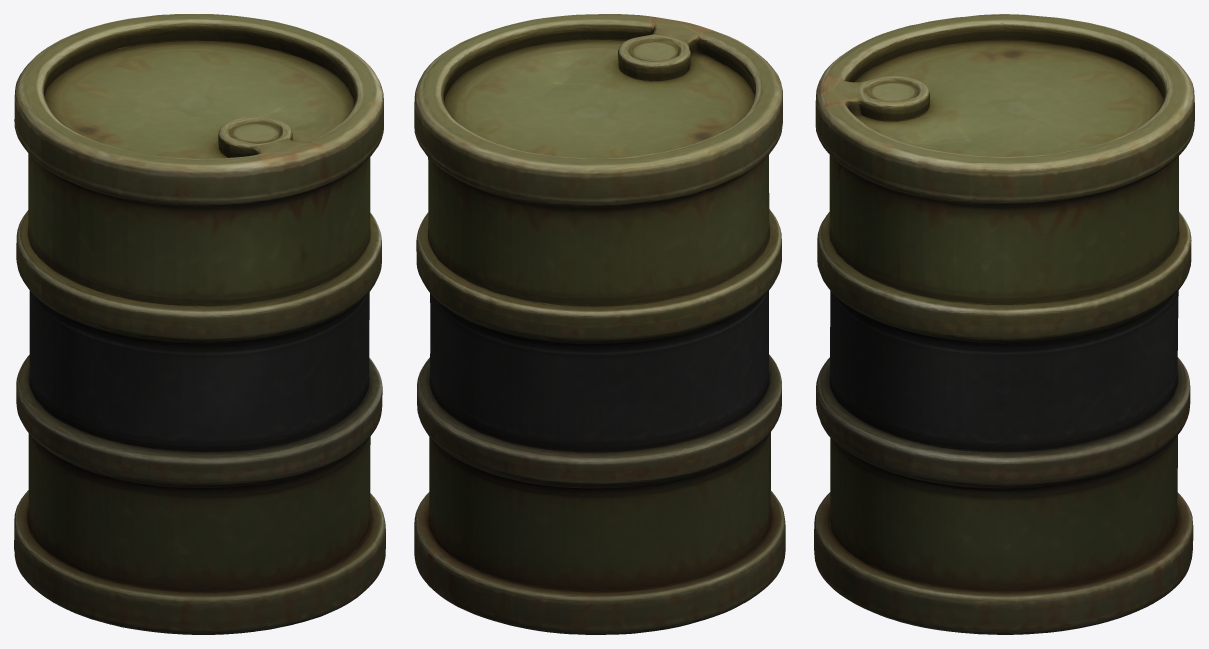
Rendered from OilDrum.glb.
3 views of the same model, side by side, from view 1: azimuth 30°, elevation 25°; view 2: azimuth 150°, elevation 25°; view 3: azimuth 270°, elevation 25° (orthographic).
Parts seen in each view (by area): view 1: world; view 2: world; view 3: world.
Part boxes in pixels (bbox=[...]): world: bbox=[14, 14, 385, 634]; world: bbox=[414, 14, 785, 634]; world: bbox=[814, 14, 1194, 634].
Size of the model in its own units: 0.715 by 1 by 0.7337.
Materials: 1 (1 with a texture image).
